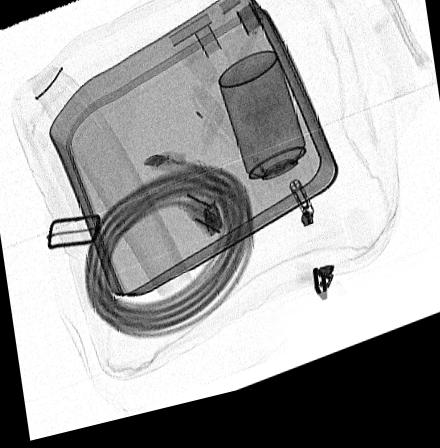Sprayer: (218, 64, 311, 219)
